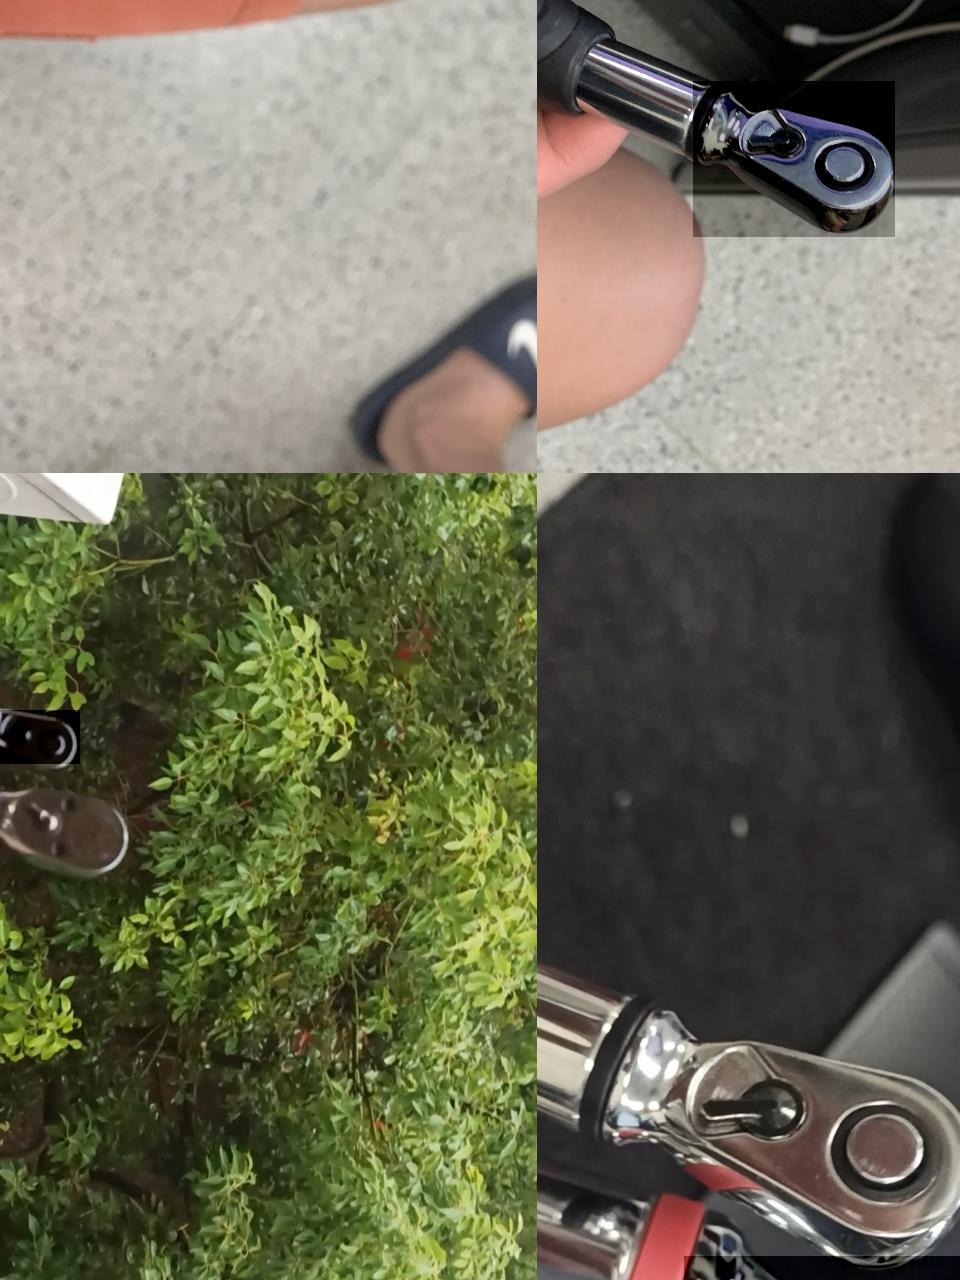Tool: (646, 1003, 960, 1271), (693, 81, 895, 237), (0, 777, 128, 872), (0, 710, 80, 764)
